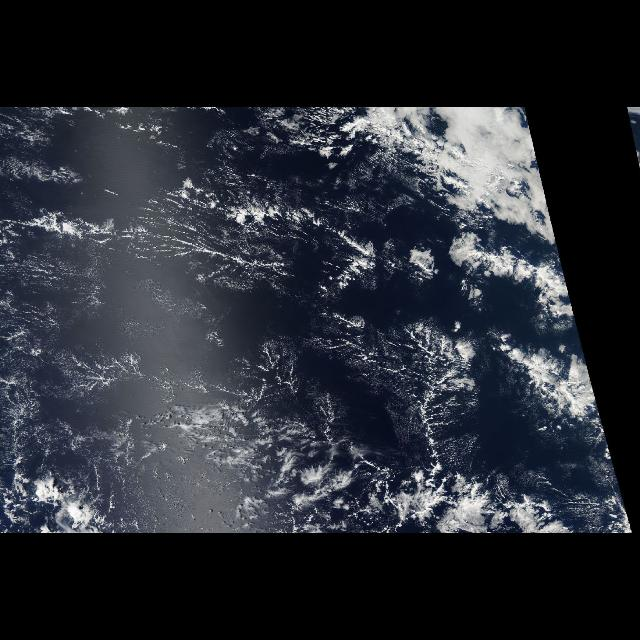Sugar: (3, 236, 179, 467)
